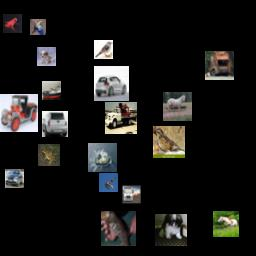airplane: (99, 173, 118, 192)
automobile: (94, 66, 129, 101), (42, 111, 68, 137), (5, 169, 24, 188)
bird: (153, 126, 185, 158), (94, 40, 113, 59), (30, 19, 46, 35)
cat: (101, 211, 136, 246)
dog: (155, 214, 187, 246), (37, 47, 56, 66)
frog: (38, 144, 60, 166), (3, 14, 22, 33)
ship: (88, 143, 117, 172), (42, 81, 61, 100)
truck: (0, 94, 38, 132), (105, 102, 137, 134), (205, 51, 234, 80), (122, 185, 141, 204)
